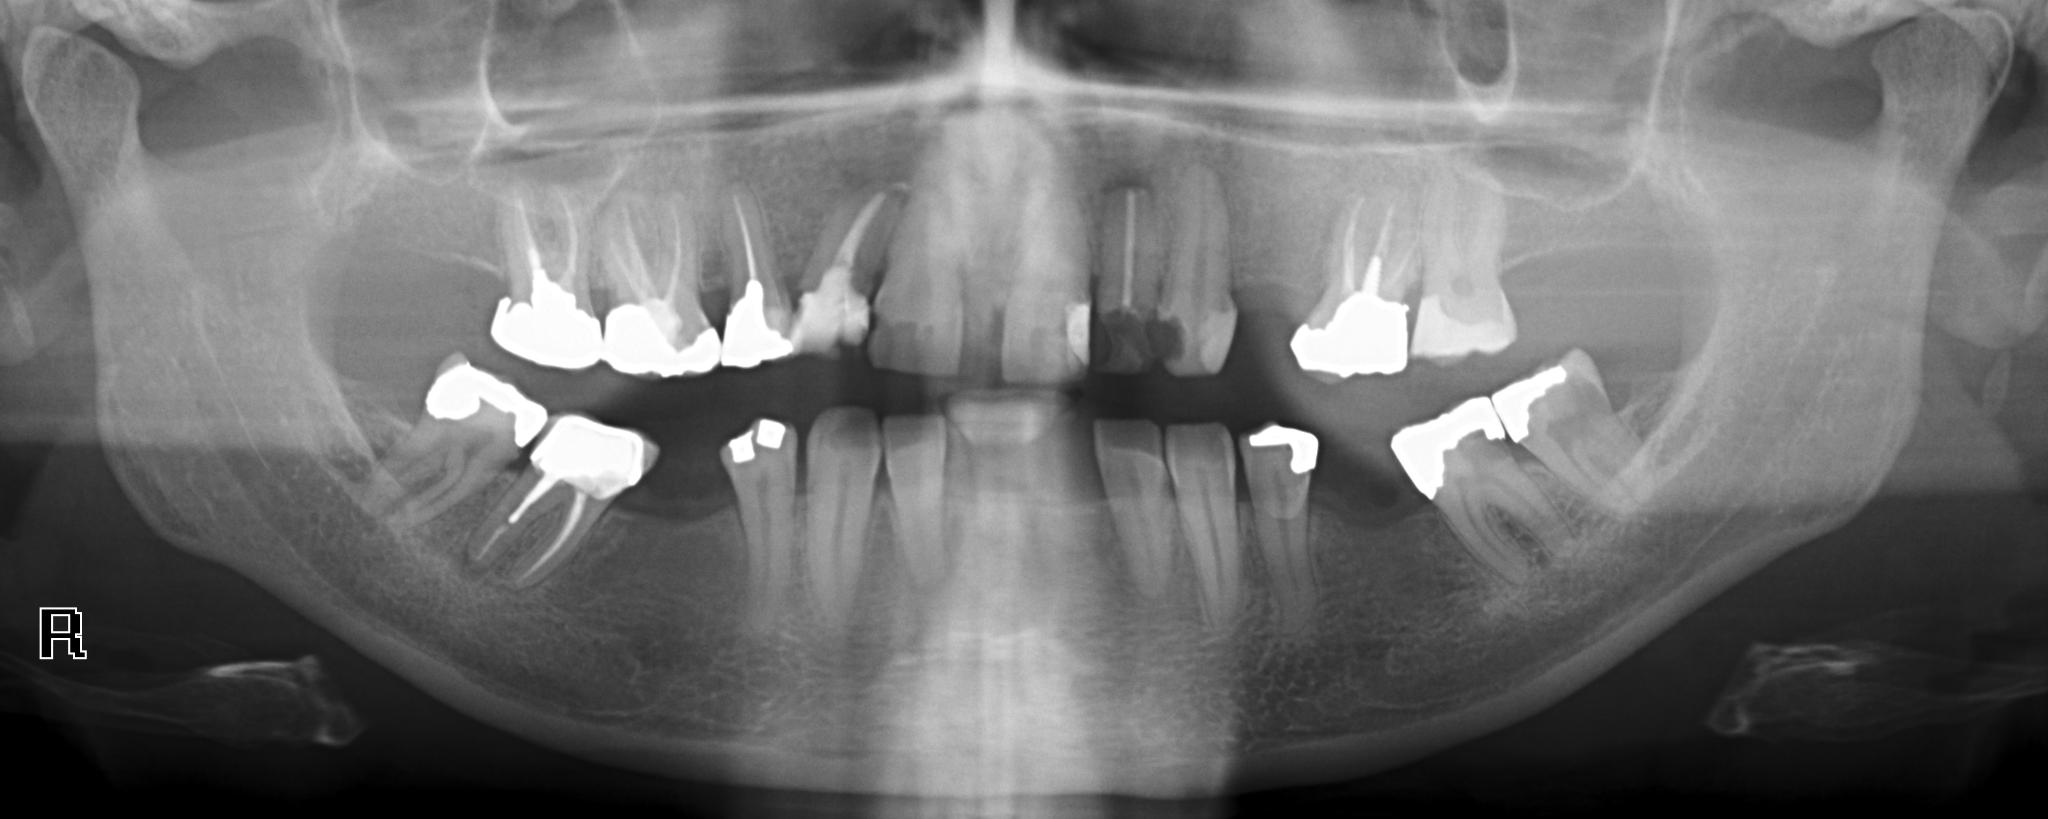Fillings: (371, 354, 549, 542), (1391, 393, 1561, 583), (1405, 185, 1523, 372), (1238, 421, 1320, 632), (721, 414, 799, 605)
Implant: (473, 406, 656, 594), (1288, 187, 1421, 387), (596, 188, 721, 381), (483, 179, 603, 376), (792, 182, 887, 364), (718, 183, 797, 372)
